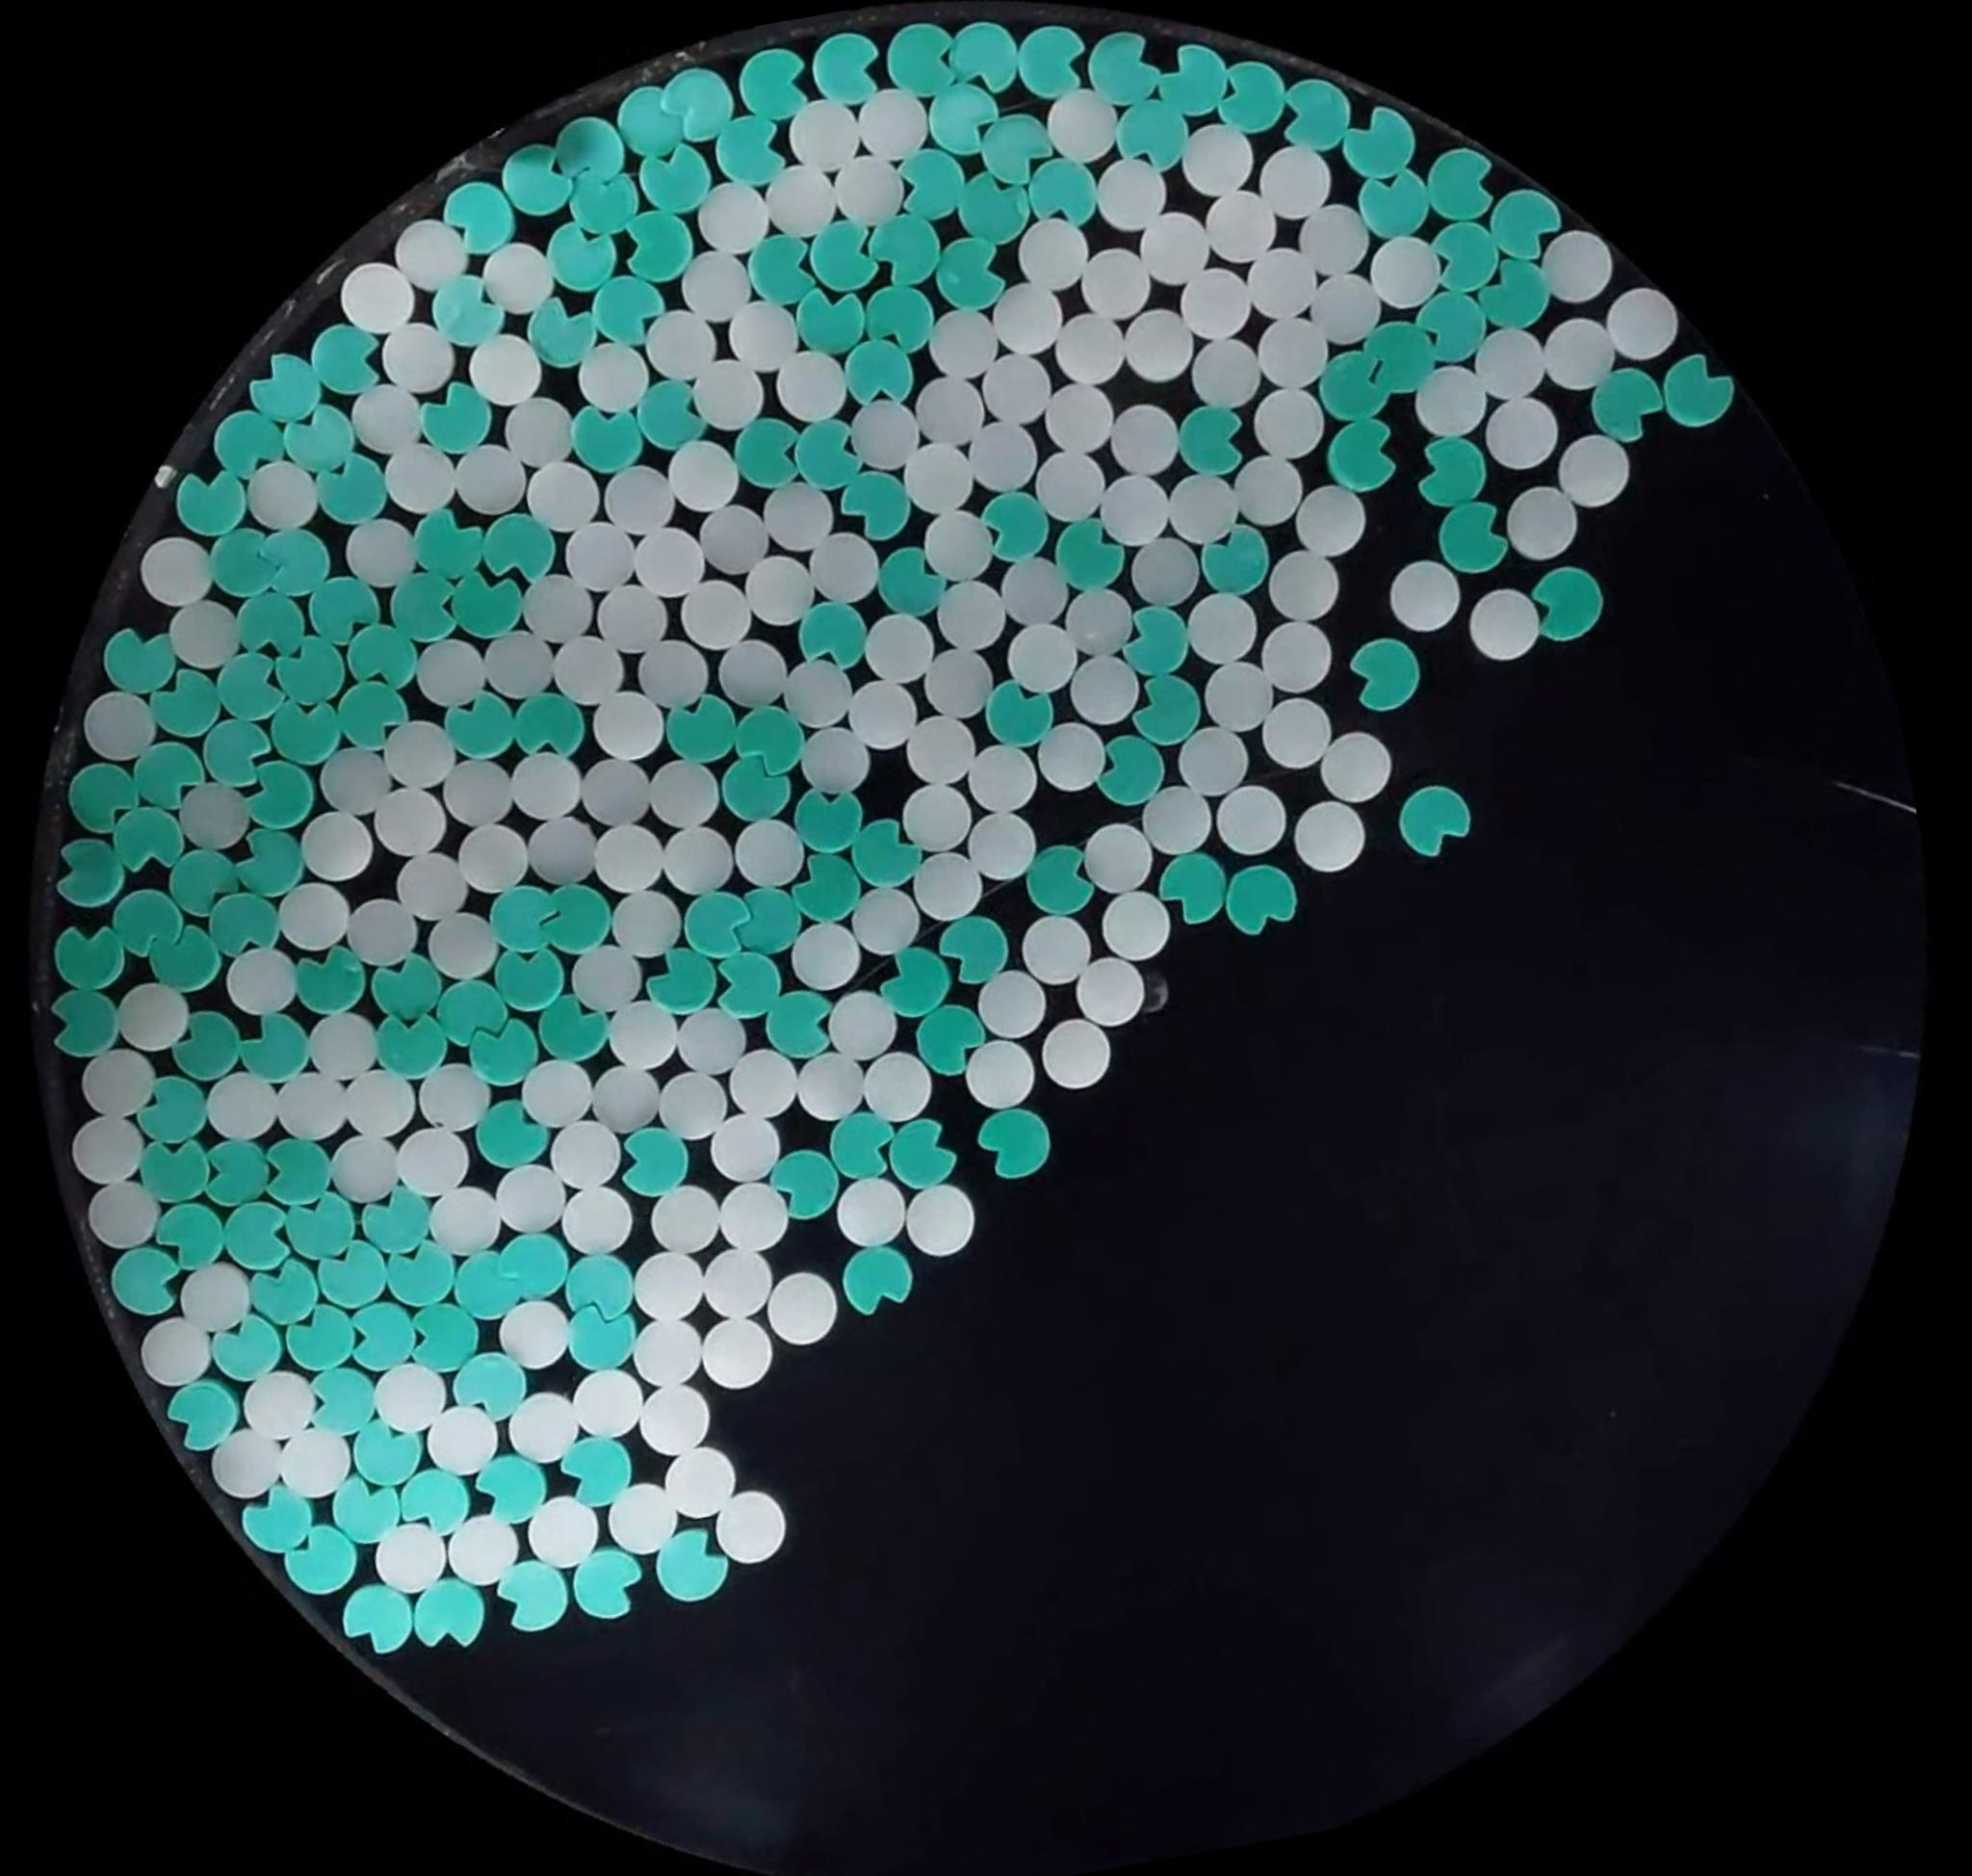no-convexa1: (1380, 764, 1491, 870), (305, 1228, 407, 1339), (555, 153, 660, 259), (192, 886, 301, 988), (153, 995, 264, 1096), (396, 495, 497, 597), (1477, 241, 1578, 343), (380, 562, 479, 664), (211, 821, 308, 925), (900, 74, 1005, 169), (294, 447, 400, 541), (842, 809, 935, 914), (801, 18, 900, 116), (192, 641, 285, 743), (114, 733, 220, 823), (729, 39, 817, 146), (424, 967, 519, 1066), (868, 153, 967, 248), (326, 662, 424, 756), (433, 1238, 525, 1337), (287, 1358, 387, 1448), (854, 284, 947, 379), (597, 259, 685, 358), (1347, 157, 1430, 261), (497, 687, 597, 772), (1095, 90, 1196, 174), (252, 694, 343, 786), (1317, 343, 1409, 435), (776, 280, 868, 370), (1113, 592, 1199, 687), (944, 173, 1030, 268), (356, 948, 447, 1036), (331, 613, 426, 696), (229, 1002, 317, 1090), (305, 560, 389, 652), (549, 210, 632, 303), (248, 516, 335, 604), (706, 941, 792, 1029), (222, 757, 312, 842), (65, 750, 146, 844), (194, 1136, 280, 1222), (130, 661, 222, 742), (725, 412, 805, 506), (42, 979, 127, 1066), (217, 398, 291, 497), (1527, 558, 1609, 646), (345, 1413, 428, 1501), (104, 1238, 188, 1323), (435, 174, 519, 259), (167, 460, 252, 544), (1655, 349, 1740, 433), (648, 1524, 732, 1608), (521, 287, 604, 373), (414, 373, 497, 460), (444, 560, 530, 643), (160, 1374, 246, 1457), (713, 107, 796, 194), (259, 641, 347, 722), (227, 588, 308, 676), (479, 884, 569, 964), (1210, 55, 1292, 139), (475, 506, 558, 590), (287, 941, 372, 1023), (370, 1001, 453, 1085), (48, 830, 130, 914), (106, 794, 188, 879), (335, 1577, 419, 1659), (48, 914, 130, 999), (160, 844, 243, 928), (872, 210, 944, 307), (445, 1346, 532, 1427), (1349, 631, 1430, 717), (417, 273, 505, 352), (625, 372, 703, 462), (1484, 183, 1567, 266), (1081, 28, 1164, 111), (1419, 144, 1502, 227), (565, 398, 648, 481), (556, 1430, 639, 1513), (129, 1069, 211, 1152), (1431, 497, 1514, 580), (727, 699, 810, 782), (931, 909, 1014, 992), (1218, 858, 1301, 941), (408, 1573, 491, 1656), (495, 137, 578, 220), (493, 1555, 576, 1638), (567, 1541, 650, 1624), (188, 715, 271, 798), (148, 1196, 232, 1277), (1426, 215, 1507, 299), (278, 1520, 363, 1601), (234, 1481, 320, 1561), (305, 317, 387, 398), (245, 347, 327, 428), (134, 1127, 217, 1208), (616, 208, 699, 289), (470, 1448, 553, 1529), (99, 620, 180, 703), (1277, 74, 1358, 157), (1340, 102, 1421, 185), (833, 465, 916, 546), (562, 1296, 644, 1377), (107, 881, 190, 962), (717, 745, 799, 826), (1021, 840, 1102, 923), (394, 1462, 477, 1543), (1586, 363, 1667, 446), (532, 881, 616, 960), (489, 1226, 574, 1305), (1321, 414, 1400, 499), (798, 409, 872, 499), (470, 1094, 551, 1175), (632, 139, 713, 220), (379, 1233, 460, 1314), (217, 1194, 298, 1275), (327, 1469, 408, 1550), (975, 109, 1056, 190), (558, 1247, 639, 1328), (202, 523, 283, 604), (1359, 315, 1440, 396), (875, 942, 956, 1023), (405, 1295, 486, 1376), (1412, 432, 1493, 513), (1023, 153, 1102, 236), (872, 541, 951, 624), (882, 1115, 961, 1198), (910, 999, 990, 1082), (1173, 400, 1252, 483), (732, 881, 815, 960), (1419, 291, 1495, 377), (1011, 19, 1090, 100), (278, 1298, 359, 1377), (641, 942, 722, 1022), (787, 849, 866, 930), (979, 675, 1060, 754), (614, 1120, 694, 1201), (838, 333, 917, 414), (488, 939, 569, 1018), (655, 62, 736, 141), (1152, 42, 1231, 123), (1090, 731, 1171, 810), (611, 81, 692, 160), (974, 1104, 1055, 1184), (977, 483, 1055, 565), (1127, 673, 1206, 752), (548, 109, 627, 188), (743, 229, 820, 310), (759, 986, 840, 1064), (880, 19, 958, 100), (1051, 516, 1129, 597), (660, 692, 741, 770), (794, 595, 872, 676), (532, 992, 613, 1069), (246, 1261, 329, 1337), (944, 16, 1023, 93), (824, 1106, 901, 1185), (259, 1131, 338, 1208), (838, 1242, 917, 1319), (768, 1145, 845, 1224), (1153, 849, 1231, 928), (1197, 523, 1275, 601), (463, 1016, 541, 1094), (805, 218, 880, 298), (146, 925, 222, 1004), (799, 780, 879, 856), (938, 236, 1009, 321), (680, 888, 757, 964), (283, 395, 359, 472), (278, 1193, 359, 1265), (345, 1295, 414, 1379), (215, 1314, 289, 1392), (354, 1187, 423, 1267), (438, 691, 518, 759)
